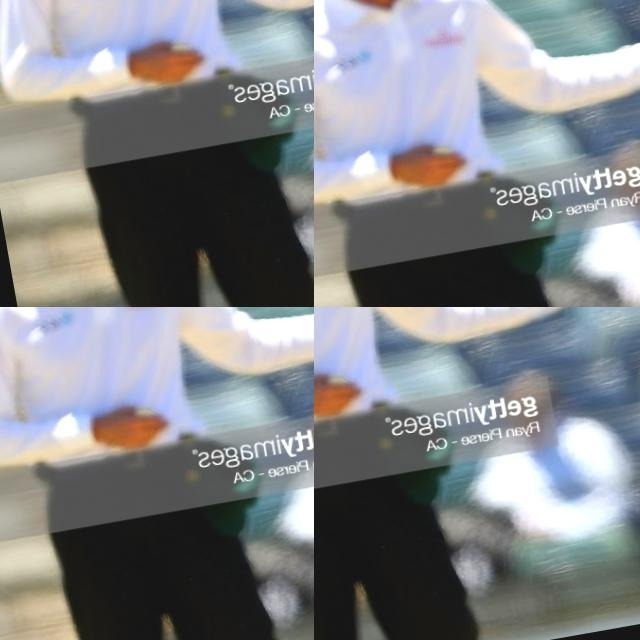No_Action: (145, 0, 314, 156), (550, 0, 640, 174)
No_Ball: (314, 307, 640, 640), (0, 307, 314, 640)
